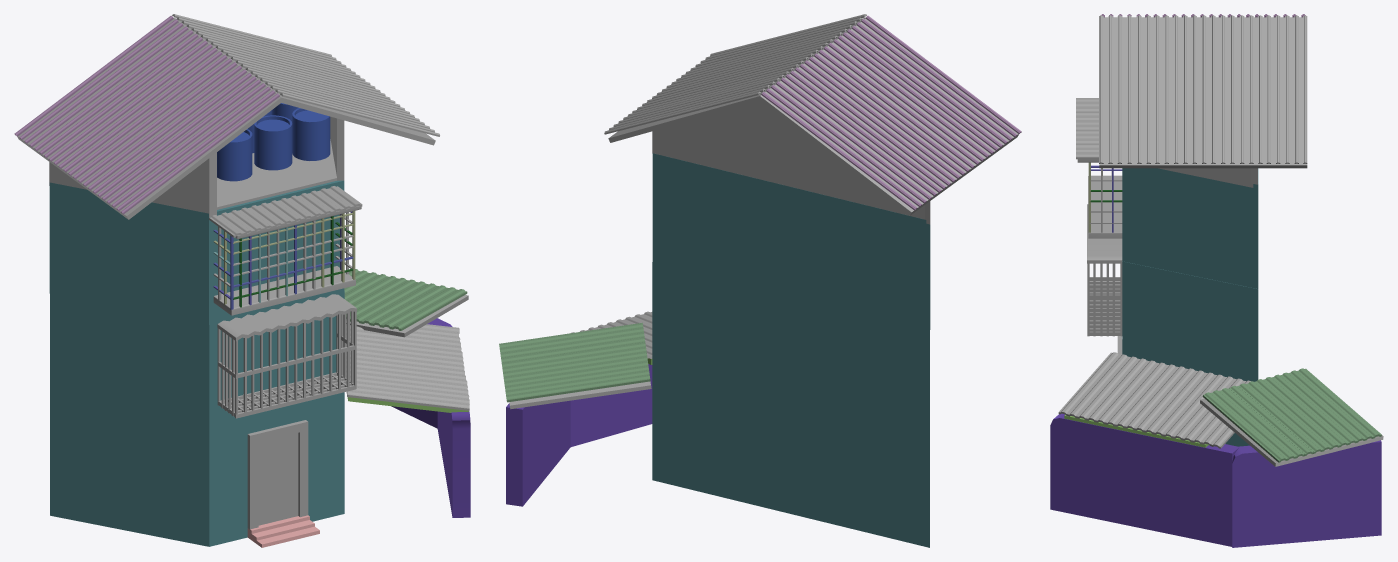
Rendered from house3.5.fbx.
3 renders of one model, left to right at view 1: azimuth 30°, elevation 25°; view 2: azimuth 150°, elevation 25°; view 3: azimuth 270°, elevation 25°, orthographic. The views are drawn at different scales.
Parts seen in each view (by area): view 1: wall3, wall2, wall, balcony5, balcony20, balcony19, balcony10, water_2, balcony6, balcony15, doorr, ground2 (+22 smaller); view 2: wall, wall3, wall2, balcony5, balcony20, wall4_2, balcony6, balcony19, wall3_3, wall3_2, balcony11, balcony10; view 3: balcony20, wall3_2, balcony19, wall, wall3_3, wall2, balcony10, balcony6, balcony12, balcony15, balcony11, balcony28 (+7 smaller).
Boxes of the visible parts, x1=… form: wall3: x1=50, y1=403, x2=344, y2=546; wall2: x1=50, y1=291, x2=344, y2=435; wall: x1=49, y1=180, x2=344, y2=324; balcony5: x1=14, y1=15, x2=279, y2=214; balcony20: x1=17, y1=18, x2=435, y2=219; balcony19: x1=172, y1=14, x2=439, y2=136; balcony10: x1=346, y1=320, x2=469, y2=410; water_2: x1=217, y1=103, x2=330, y2=181; balcony6: x1=344, y1=269, x2=467, y2=330; balcony15: x1=209, y1=186, x2=362, y2=237; doorr: x1=258, y1=433, x2=298, y2=525; ground2: x1=217, y1=139, x2=336, y2=209; wall: x1=652, y1=153, x2=930, y2=329; wall3: x1=652, y1=371, x2=929, y2=547; wall2: x1=652, y1=262, x2=929, y2=438; balcony5: x1=761, y1=15, x2=1021, y2=210; balcony20: x1=608, y1=17, x2=1018, y2=215; wall4_2: x1=652, y1=101, x2=924, y2=219; balcony6: x1=499, y1=322, x2=650, y2=402; balcony19: x1=604, y1=14, x2=866, y2=134; wall3_3: x1=506, y1=400, x2=570, y2=506; wall3_2: x1=570, y1=364, x2=652, y2=446; balcony11: x1=509, y1=381, x2=651, y2=409; balcony10: x1=571, y1=311, x2=652, y2=358; balcony20: x1=1099, y1=17, x2=1307, y2=168; wall3_2: x1=1050, y1=413, x2=1239, y2=546; balcony19: x1=1099, y1=15, x2=1307, y2=163; wall: x1=1122, y1=168, x2=1258, y2=288; wall3_3: x1=1232, y1=440, x2=1381, y2=547; wall2: x1=1122, y1=261, x2=1258, y2=381; balcony10: x1=1058, y1=352, x2=1250, y2=448; balcony6: x1=1202, y1=368, x2=1381, y2=462; balcony12: x1=1088, y1=175, x2=1122, y2=238; balcony15: x1=1076, y1=98, x2=1098, y2=159; balcony11: x1=1200, y1=398, x2=1383, y2=466; balcony28: x1=1087, y1=204, x2=1122, y2=263.
Bounding box in the file's own units: 10.59 × 10.3 × 7.37.
